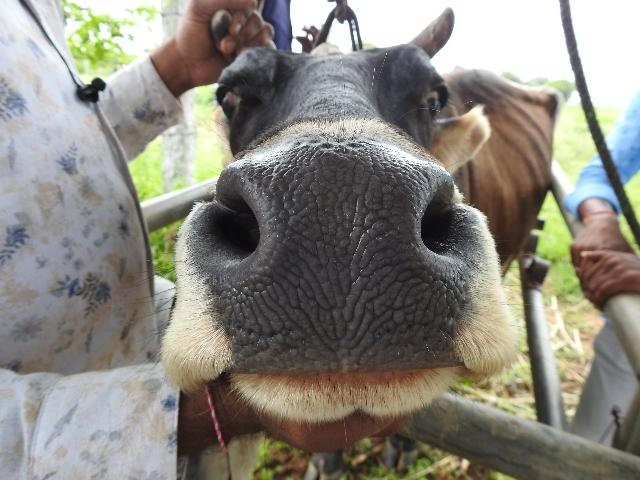Muzzle: (238, 163, 438, 364)
